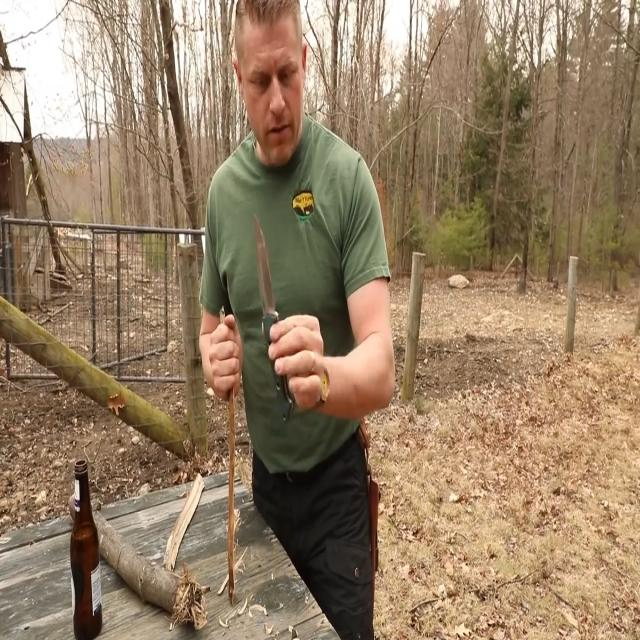knife: (252, 211, 296, 428)
